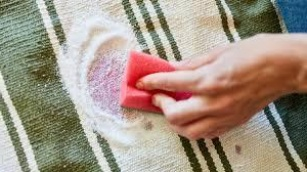wine: (94, 59, 130, 103)
